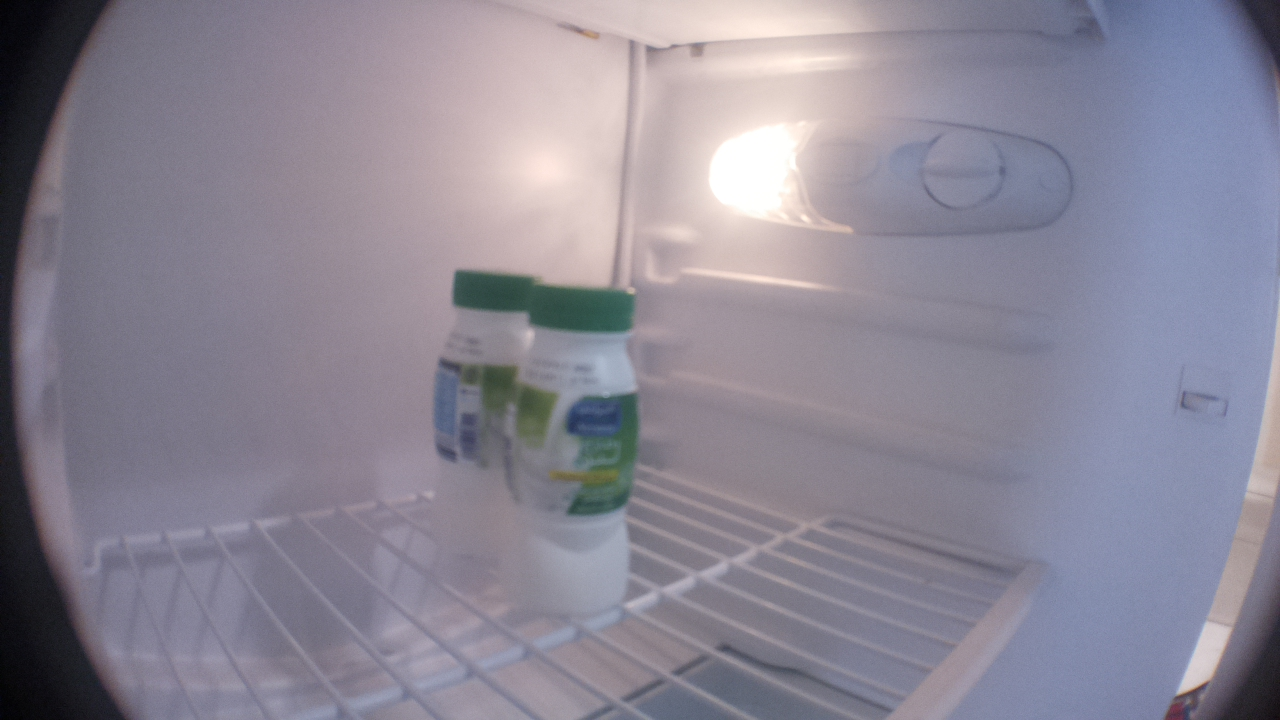laban: (505, 283, 642, 620), (425, 269, 538, 550)
